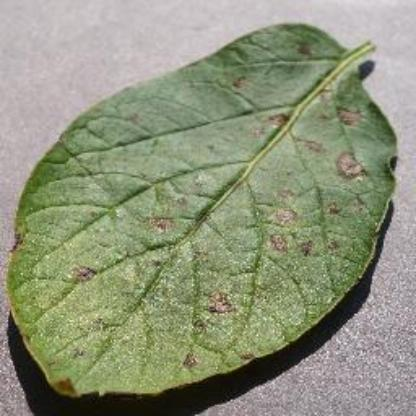Early-Blight: (14, 20, 402, 402)
